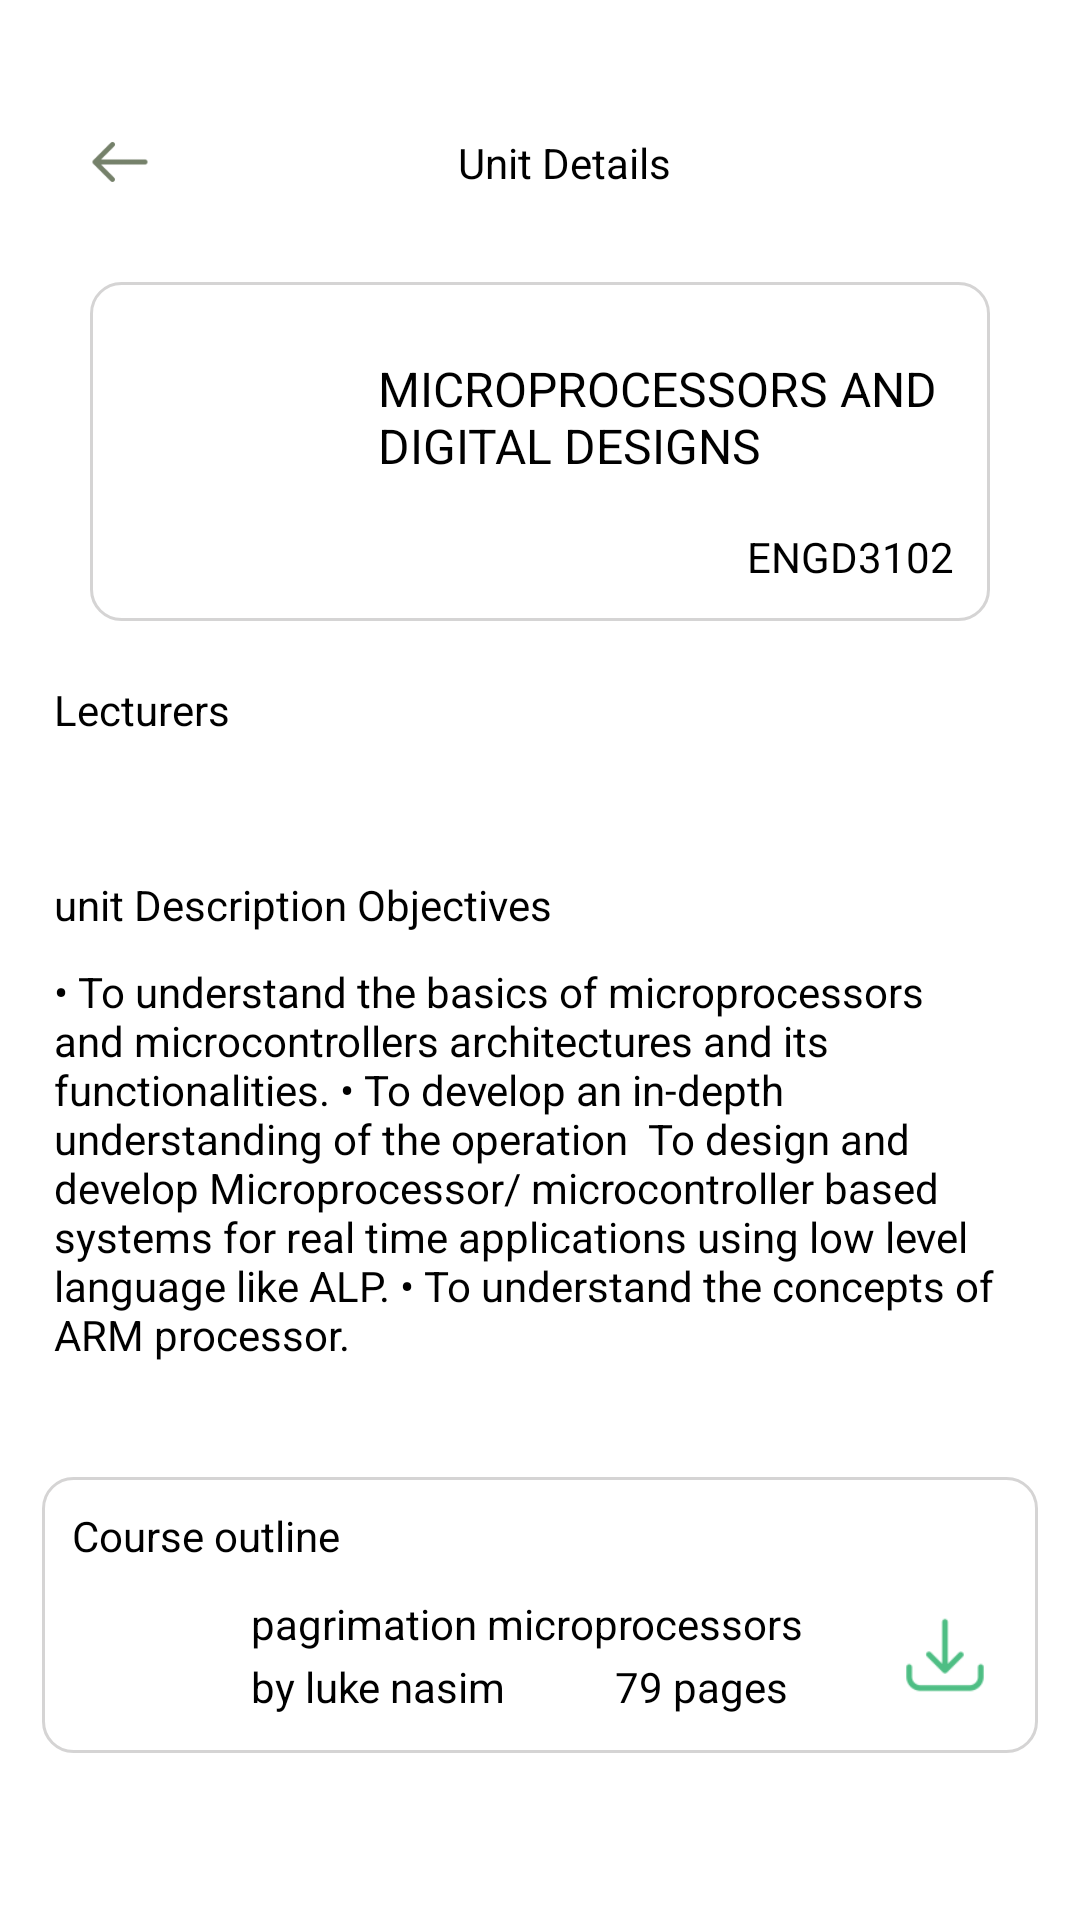

Screen size 1080px×1920px. Icon name, then its center in pixels as (x,y):
back arrow: (120,162)
download: (945,1655)
